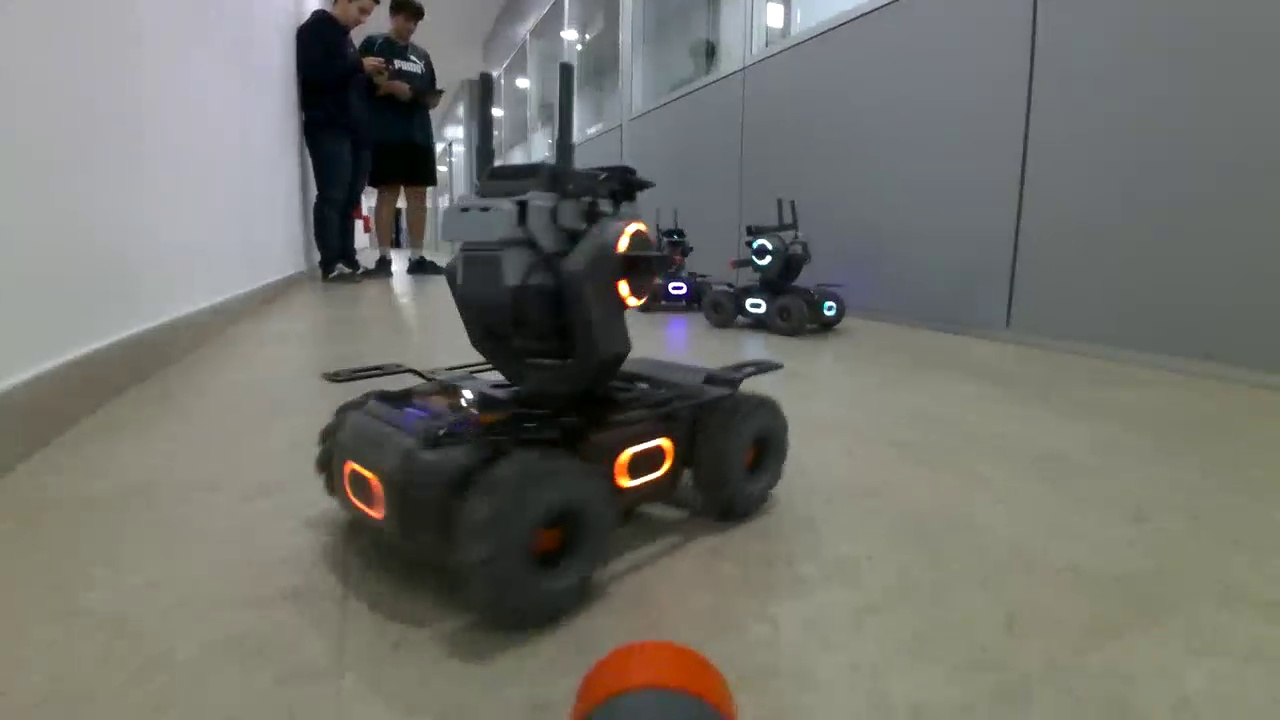robot: (315, 161, 791, 636), (703, 221, 849, 333), (638, 227, 711, 314)
